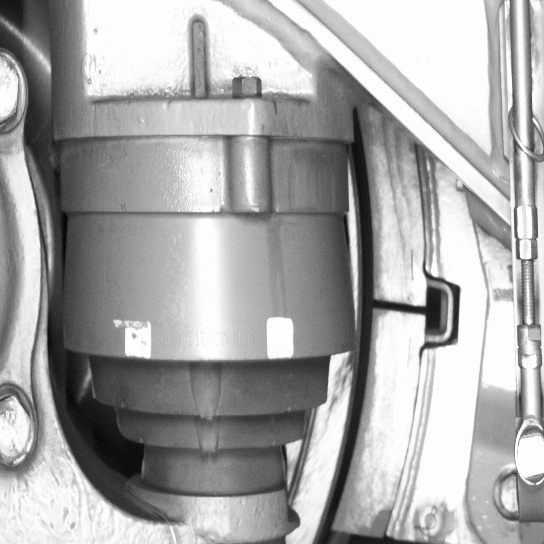KnifeSwitch: (311, 139, 440, 541)
